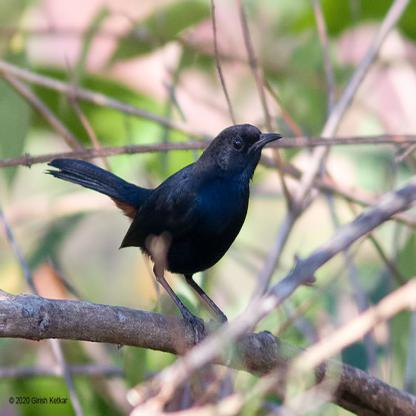Burung: (44, 124, 284, 346)
